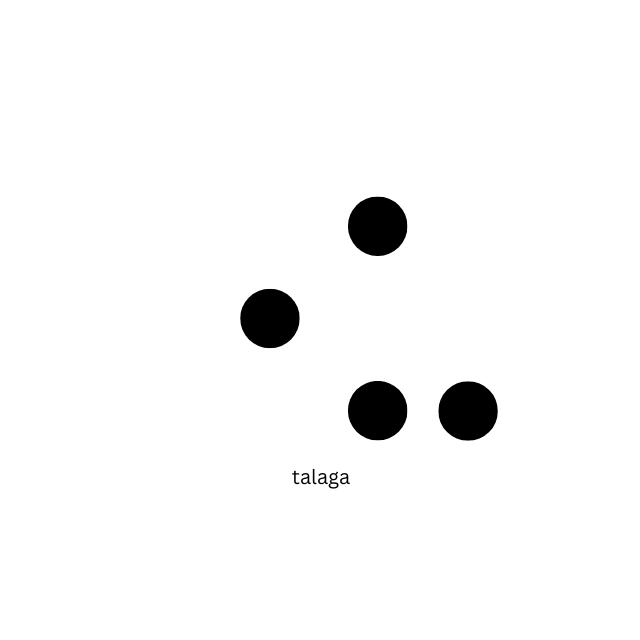dot_5: (148, 191, 302, 442)
two_cell_alphabet_ugali: (346, 193, 500, 444)
